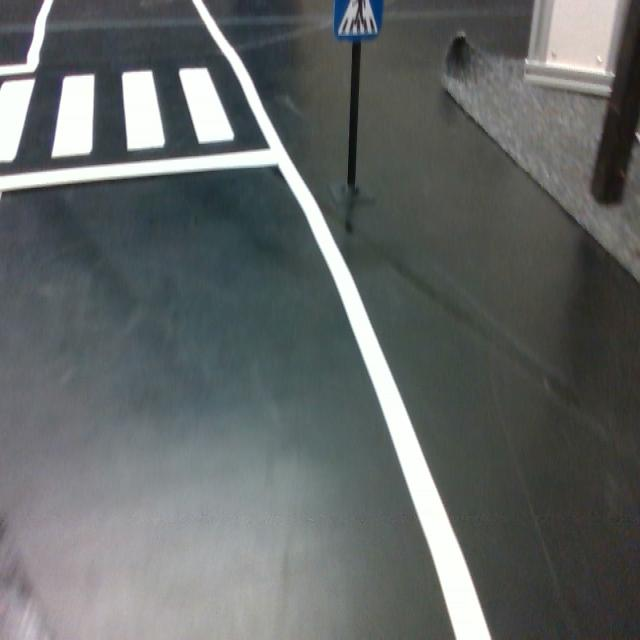crosswalk-sign: (333, 0, 384, 32)
